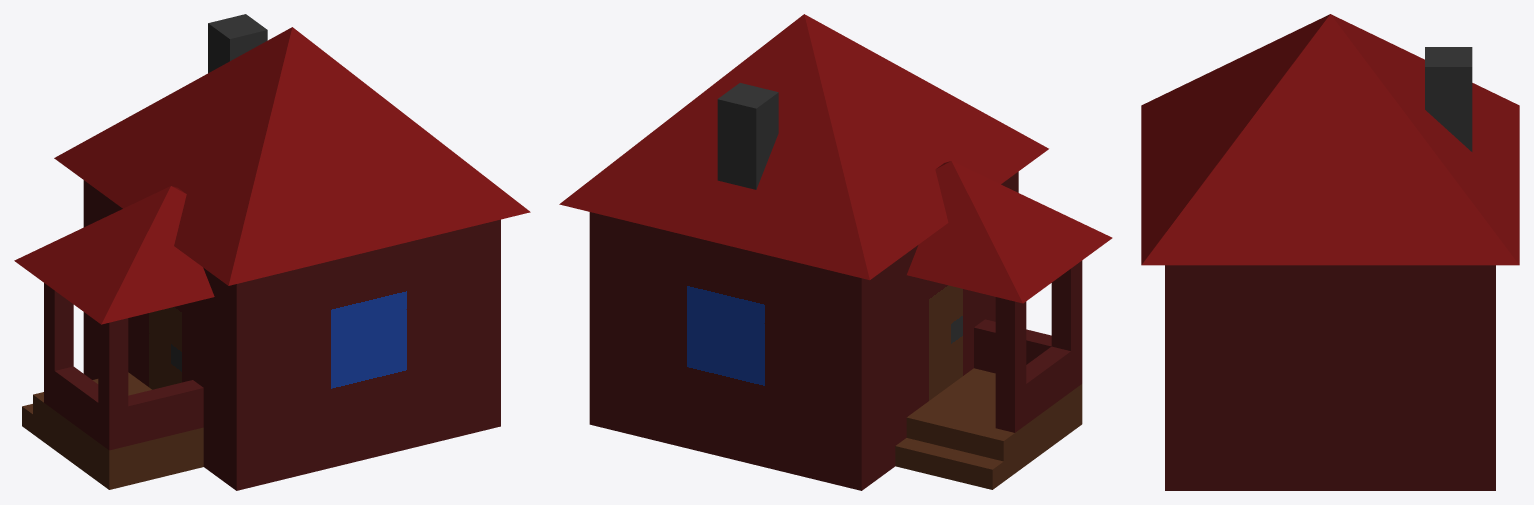
Rendered from BuilderHouse.fbx.
The picture shows the model from 3 angles, left to right: view 1: azimuth 30°, elevation 25°; view 2: azimuth 150°, elevation 25°; view 3: azimuth 270°, elevation 25°; orthographic projection. The views are drawn at different scales.
Visible parts, largest first — view 1: cube, pyramid, pyramid_1, cube_2, cube_7, cube_5, cube_6, cube_4, cube_1; view 2: cube, pyramid, pyramid_1, cube_2, cube_1, cube_6, cube_3, cube_7, cube_4, cube_5; view 3: pyramid, cube, cube_1.
Part boxes in pixels (<box>): cube: <box>83,180,500,490</box>; pyramid: <box>54,27,530,285</box>; pyramid_1: <box>14,186,214,324</box>; cube_2: <box>33,372,203,489</box>; cube_7: <box>98,318,128,450</box>; cube_5: <box>128,380,203,445</box>; cube_6: <box>44,283,73,410</box>; cube_4: <box>54,366,98,441</box>; cube_1: <box>208,14,267,73</box>; cube: <box>589,171,1018,490</box>; pyramid: <box>559,14,1048,280</box>; pyramid_1: <box>907,161,1112,303</box>; cube_2: <box>906,368,1082,481</box>; cube_1: <box>717,83,778,189</box>; cube_6: <box>995,297,1026,432</box>; cube_3: <box>895,438,1003,489</box>; cube_7: <box>1051,260,1082,391</box>; cube_4: <box>1026,346,1070,424</box>; cube_5: <box>974,319,1051,373</box>; pyramid: <box>1141,14,1519,265</box>; cube: <box>1165,265,1495,490</box>; cube_1: <box>1425,47,1472,151</box>.
Bounding box in the file's own units: 131 × 119 × 100.
1 material, 1 textured.
